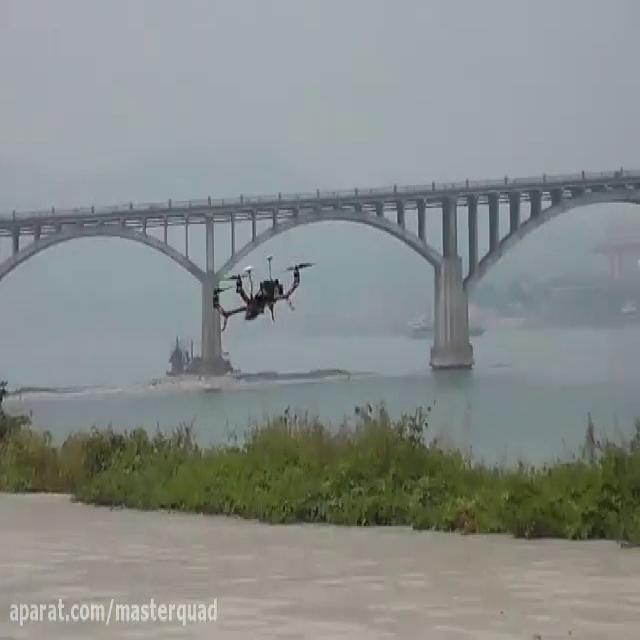drone: (208, 247, 315, 341)
